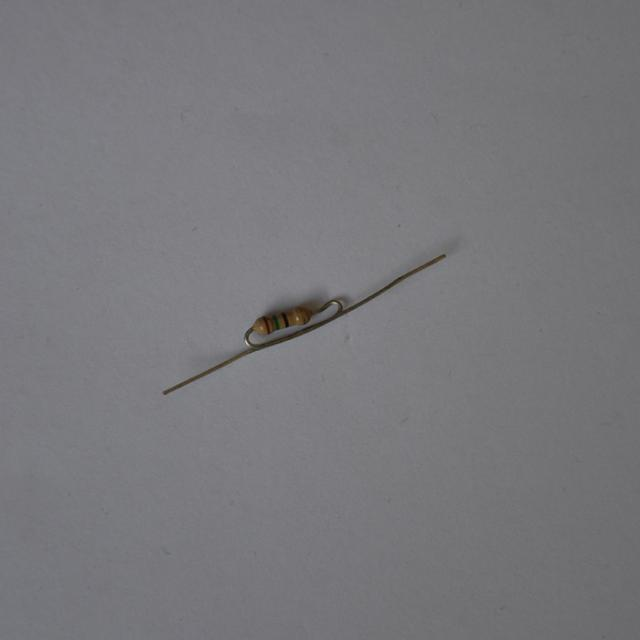black: (280, 311, 289, 325)
brown: (261, 318, 271, 333)
gold: (298, 307, 306, 323)
green: (271, 315, 279, 328)
resistor: (242, 294, 321, 347)
